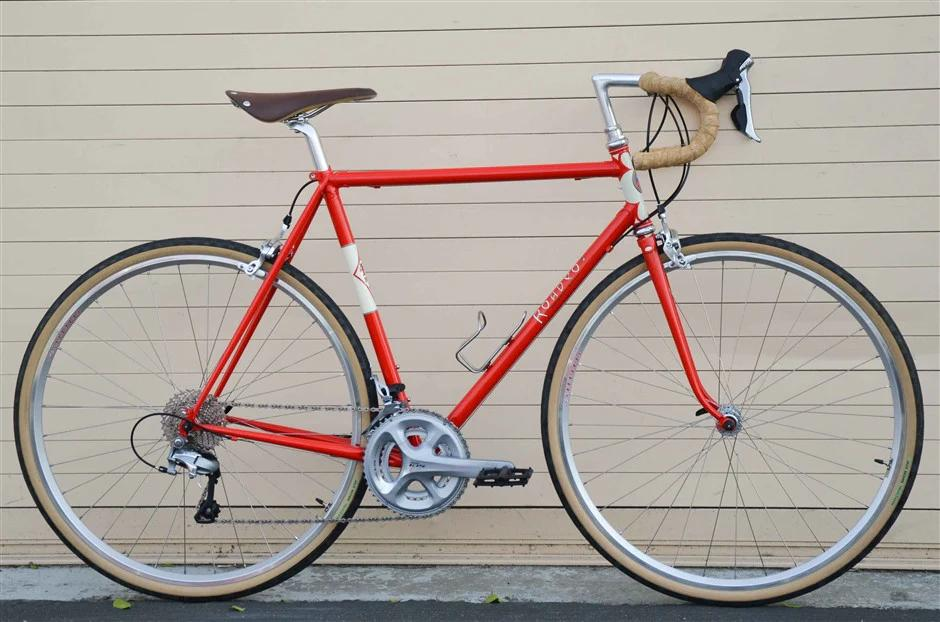bicycle: (10, 42, 927, 614)
